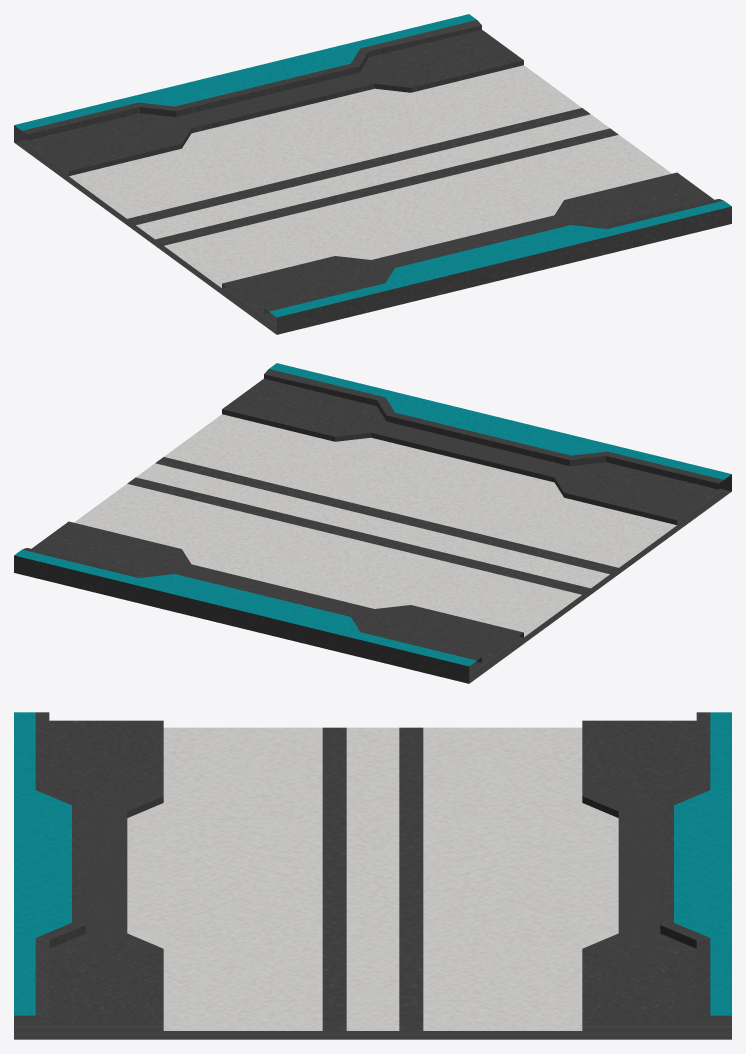
File: Floor_1_Blank_LOD1.fbx
3 views of the same model, one above another, from view 1: azimuth 30°, elevation 25°; view 2: azimuth 150°, elevation 25°; view 3: azimuth 270°, elevation 25° (orthographic). The views are drawn at different scales.
Visible parts, largest first — view 1: Floor_1_Blank_LOD1; view 2: Floor_1_Blank_LOD1; view 3: Floor_1_Blank_LOD1.
Boxes of the visible parts, box(x1,y1,x2,y2) form: Floor_1_Blank_LOD1: box(14, 14, 731, 334); Floor_1_Blank_LOD1: box(14, 363, 731, 683); Floor_1_Blank_LOD1: box(14, 712, 731, 1039).
Size of the model in its own units: 200 by 7.31 by 200.
